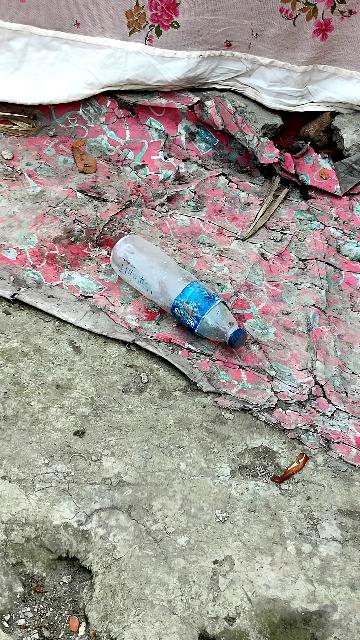bottle: (96, 214, 258, 359)
